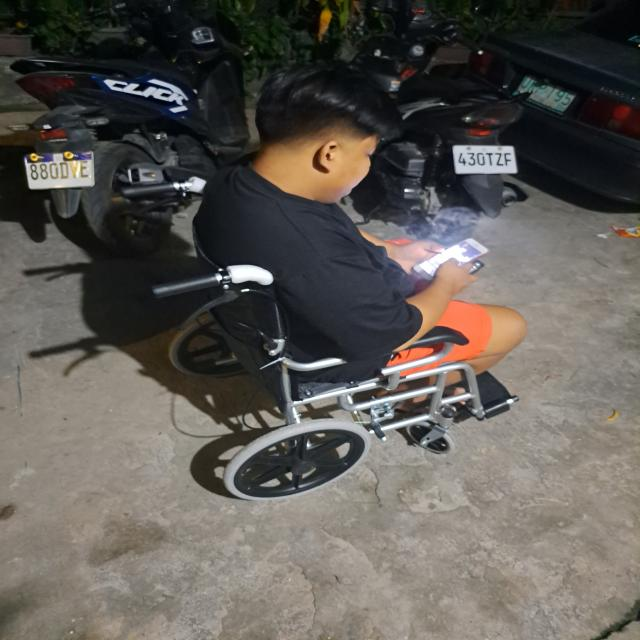wheelchairs: (137, 218, 528, 518)
